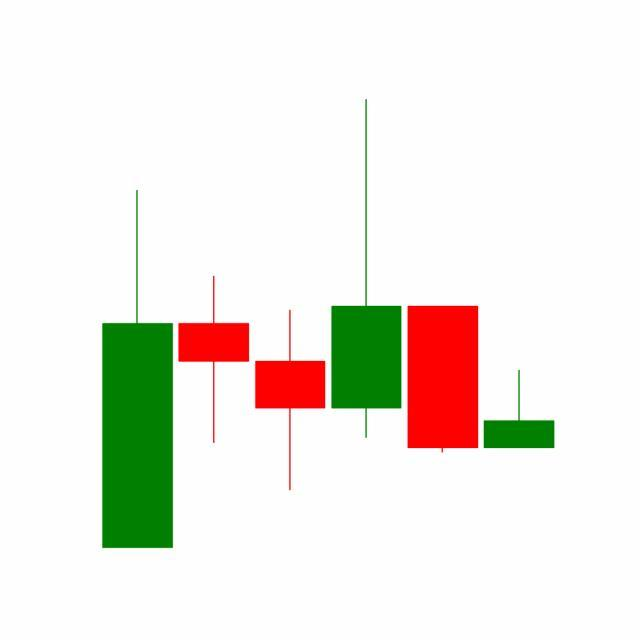Marubozu: (404, 304, 482, 455)
